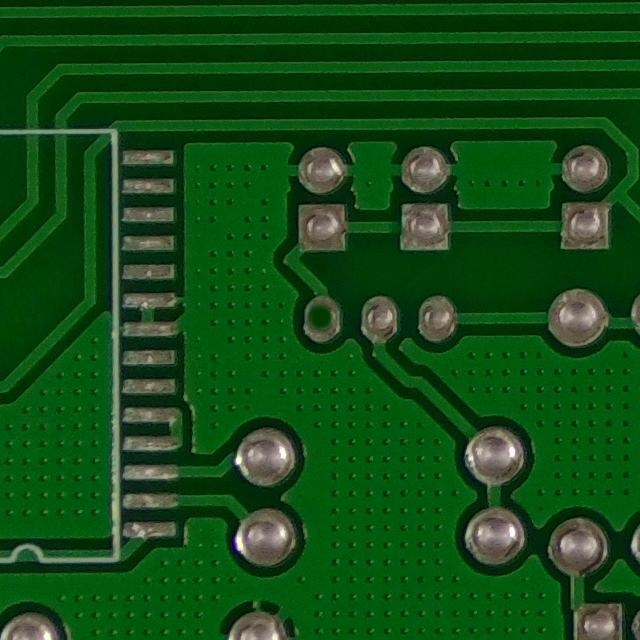missing_hole: (293, 287, 348, 352)
